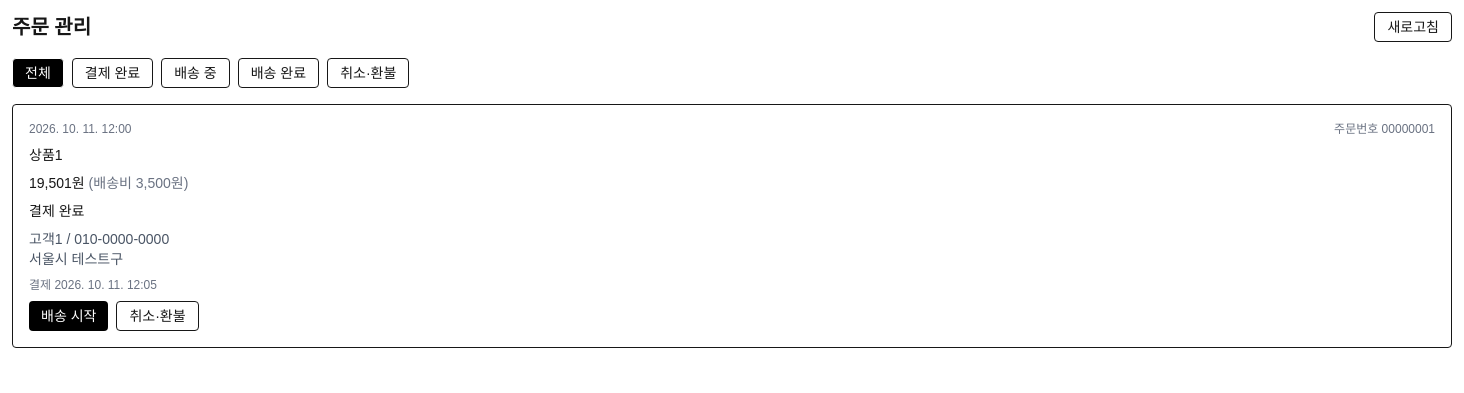
Test: 상태 탭 › 성공: 탭을 바꾸면 이전 탭의 목록과 오류를 지우고 새 목록을 보인다
Click the button "배송 시작" at (69,316), box [29, 301, 108, 331]
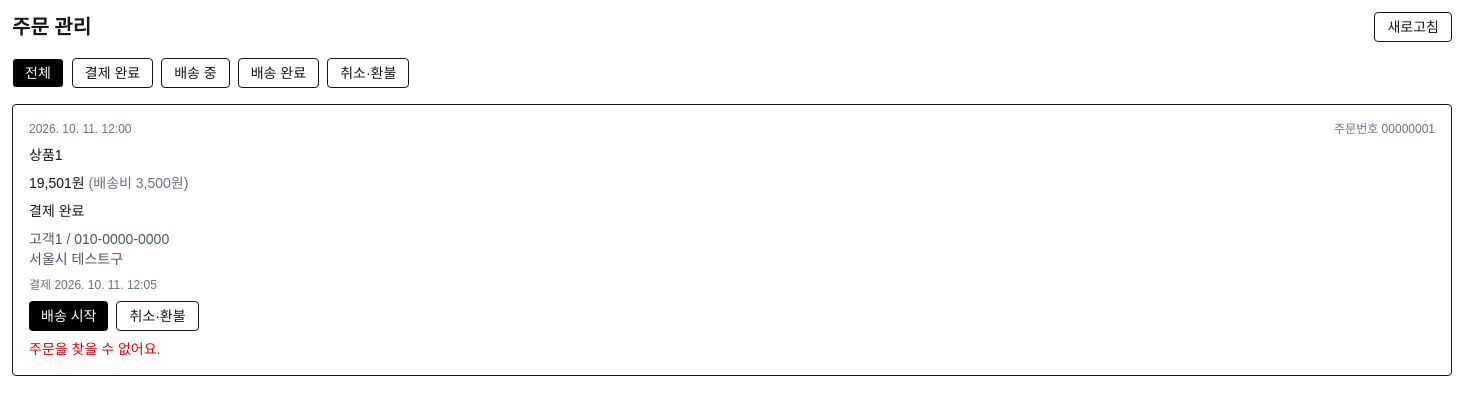
Expected: the message "주문을 찾을 수 없어요." is shown, [29, 341, 160, 357]
Click the button "배송 중" at (195,73), box [161, 58, 230, 88]
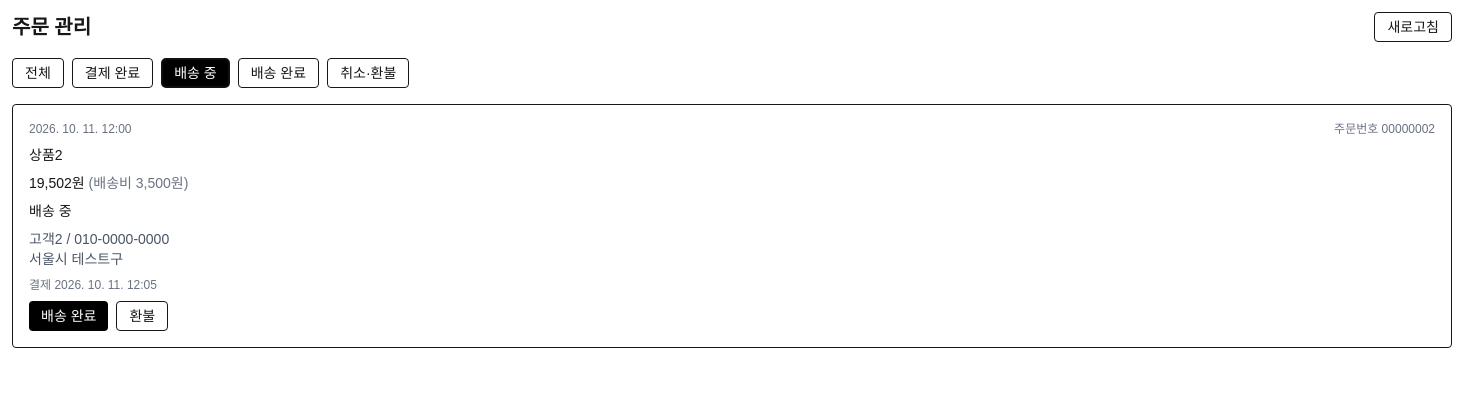
Expected: the text "상품2" is shown, [29, 147, 62, 163]
Expected: the text "상품1" is gone
Expected: the message "주문을 찾을 수 없어요." is gone
